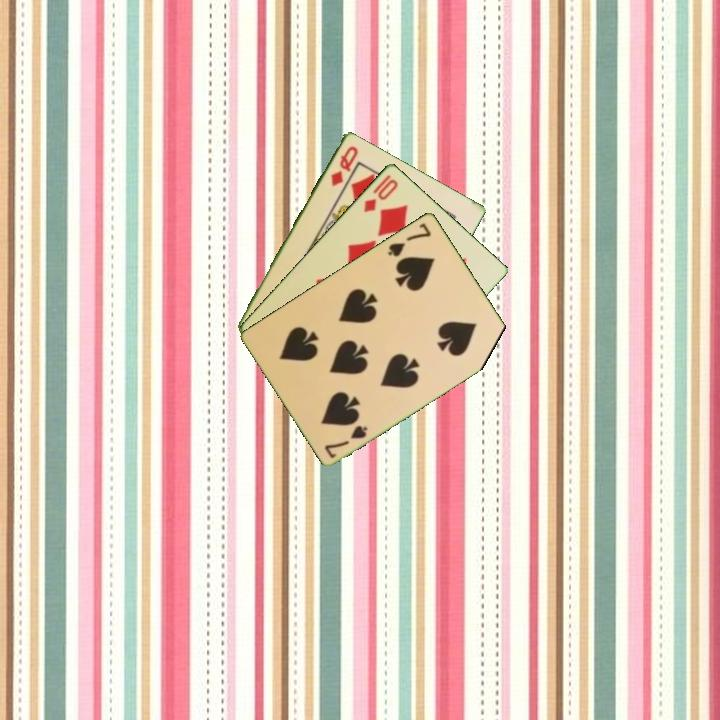10d: (360, 171, 401, 215)
7s: (384, 219, 434, 259), (321, 421, 371, 461)
Qd: (327, 142, 361, 189)
